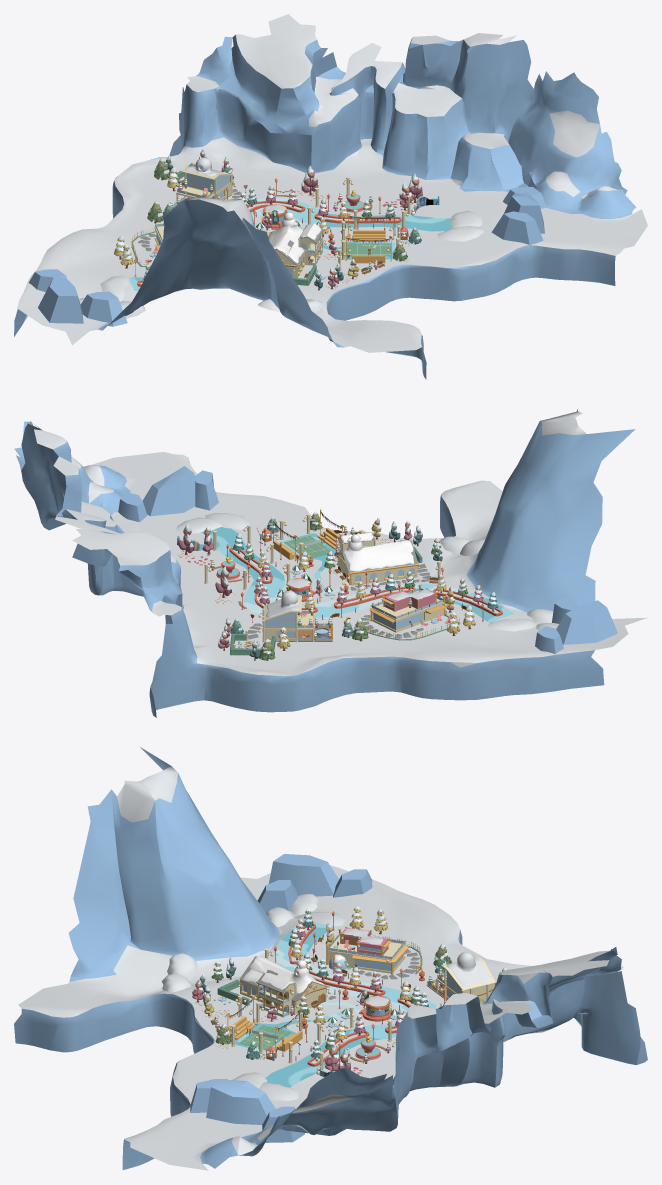
File: Individual_BeverlyChills_02.fbx
The picture shows the model from 3 angles, top to bottom: view 1: azimuth 30°, elevation 25°; view 2: azimuth 150°, elevation 25°; view 3: azimuth 270°, elevation 25°; orthographic projection. The views are drawn at different scales.
Parts seen in each view (by area): view 1: pasted__BeverlyChillsRoad_01, pasted__polySurface154, pasted__Object_IceRock4, pasted__Building_LuxuryHouse2Story1, pasted__Object_IceRock8, pasted__Object_IceRock3, pasted__Object_RoadIslands, pasted__Object_IceRock6, pasted__Building_TennisCourt2, pasted__SnowPatch6; view 2: pasted__BeverlyChillsRoad_01, pasted__polySurface154, pasted__Building_LuxuryHouse2Story1, pasted__Building_LuxuryHouse3, pasted__Object_IceRock4, pasted__Object_IceRock6, pasted__Object_RoadIslands, pasted__Object_IceRock8, pasted__Object_IceRock7, pasted__Object_IceRock5, pasted__Building_TennisCourt2, pasted__SnowPatch6 (+3 smaller); view 3: pasted__BeverlyChillsRoad_01, pasted__polySurface154, pasted__Object_IceRock6, pasted__Building_LuxuryHouse3, pasted__Object_IceRock4, pasted__Building_LuxuryHouse2Story1, pasted__Object_RoadIslands, pasted__Object_IceRock3, pasted__Object_IceRock5, pasted__Object_IceRock7, pasted__Building_RoundCoffeeShop1, pasted__SnowPatch4.
Part boxes in pixels (x1,y1,x2,y2): pasted__BeverlyChillsRoad_01: (14,14,647,379); pasted__polySurface154: (267,212,323,277); pasted__Object_IceRock4: (38,277,83,323); pasted__Building_LuxuryHouse2Story1: (172,157,230,208); pasted__Object_IceRock8: (491,211,543,244); pasted__Object_IceRock3: (80,291,127,326); pasted__Object_RoadIslands: (137,201,401,286); pasted__Object_IceRock6: (504,192,544,233); pasted__Building_TennisCourt2: (346,243,391,256); pasted__SnowPatch6: (437,226,484,241); pasted__BeverlyChillsRoad_01: (14,409,647,717); pasted__polySurface154: (336,533,418,585); pasted__Building_LuxuryHouse2Story1: (263,590,332,641); pasted__Building_LuxuryHouse3: (372,588,443,632); pasted__Object_IceRock4: (556,600,617,644); pasted__Object_IceRock6: (142,466,196,516); pasted__Object_RoadIslands: (229,547,502,616); pasted__Object_IceRock8: (195,470,218,510); pasted__Object_IceRock7: (118,493,147,522); pasted__Object_IceRock5: (535,626,563,653); pasted__Building_TennisCourt2: (284,536,332,558); pasted__SnowPatch6: (205,513,249,529); pasted__BeverlyChillsRoad_01: (14,747,647,1170); pasted__polySurface154: (239,956,329,1017); pasted__Object_IceRock6: (206,1079,275,1124); pasted__Building_LuxuryHouse3: (328,927,405,973); pasted__Object_IceRock4: (268,854,338,896); pasted__Building_LuxuryHouse2Story1: (426,952,495,1001); pasted__Object_RoadIslands: (288,924,415,1066); pasted__Object_IceRock3: (257,880,297,912); pasted__Object_IceRock5: (333,869,372,897); pasted__Object_IceRock7: (262,1106,304,1142); pasted__Building_RoundCoffeeShop1: (359,995,392,1021); pasted__SnowPatch4: (167,953,198,981).
Size of the model in its own units: 11927 by 3384 by 10397.
